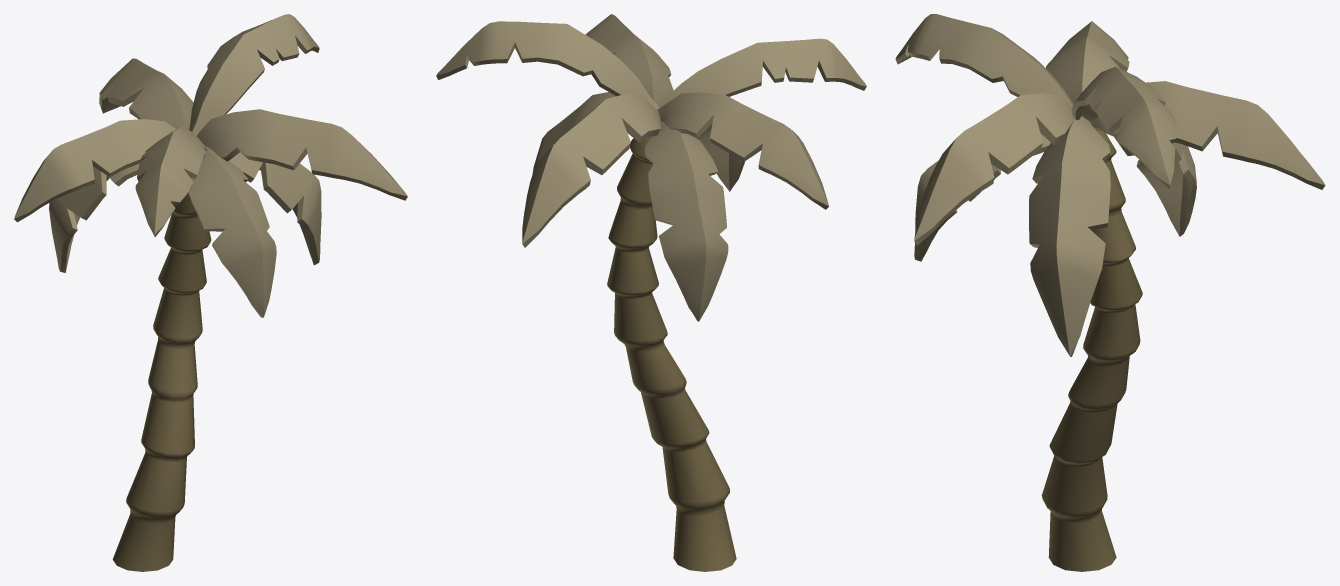
Rendered from environment-palmtree-1.glb.
3 views of the same model, side by side, from view 1: azimuth 30°, elevation 25°; view 2: azimuth 150°, elevation 25°; view 3: azimuth 270°, elevation 25° (orthographic). The views are drawn at different scales.
Visible parts, largest first — view 1: Environment_PalmTree_1; view 2: Environment_PalmTree_1; view 3: Environment_PalmTree_1.
Boxes of the visible parts, <box> form: Environment_PalmTree_1: <box>14,14,407,571</box>; Environment_PalmTree_1: <box>436,14,866,571</box>; Environment_PalmTree_1: <box>895,14,1325,571</box>.
Bounding box in the file's own units: 2.61 × 3.59 × 2.52.
Materials: 1 (1 with a texture image).
